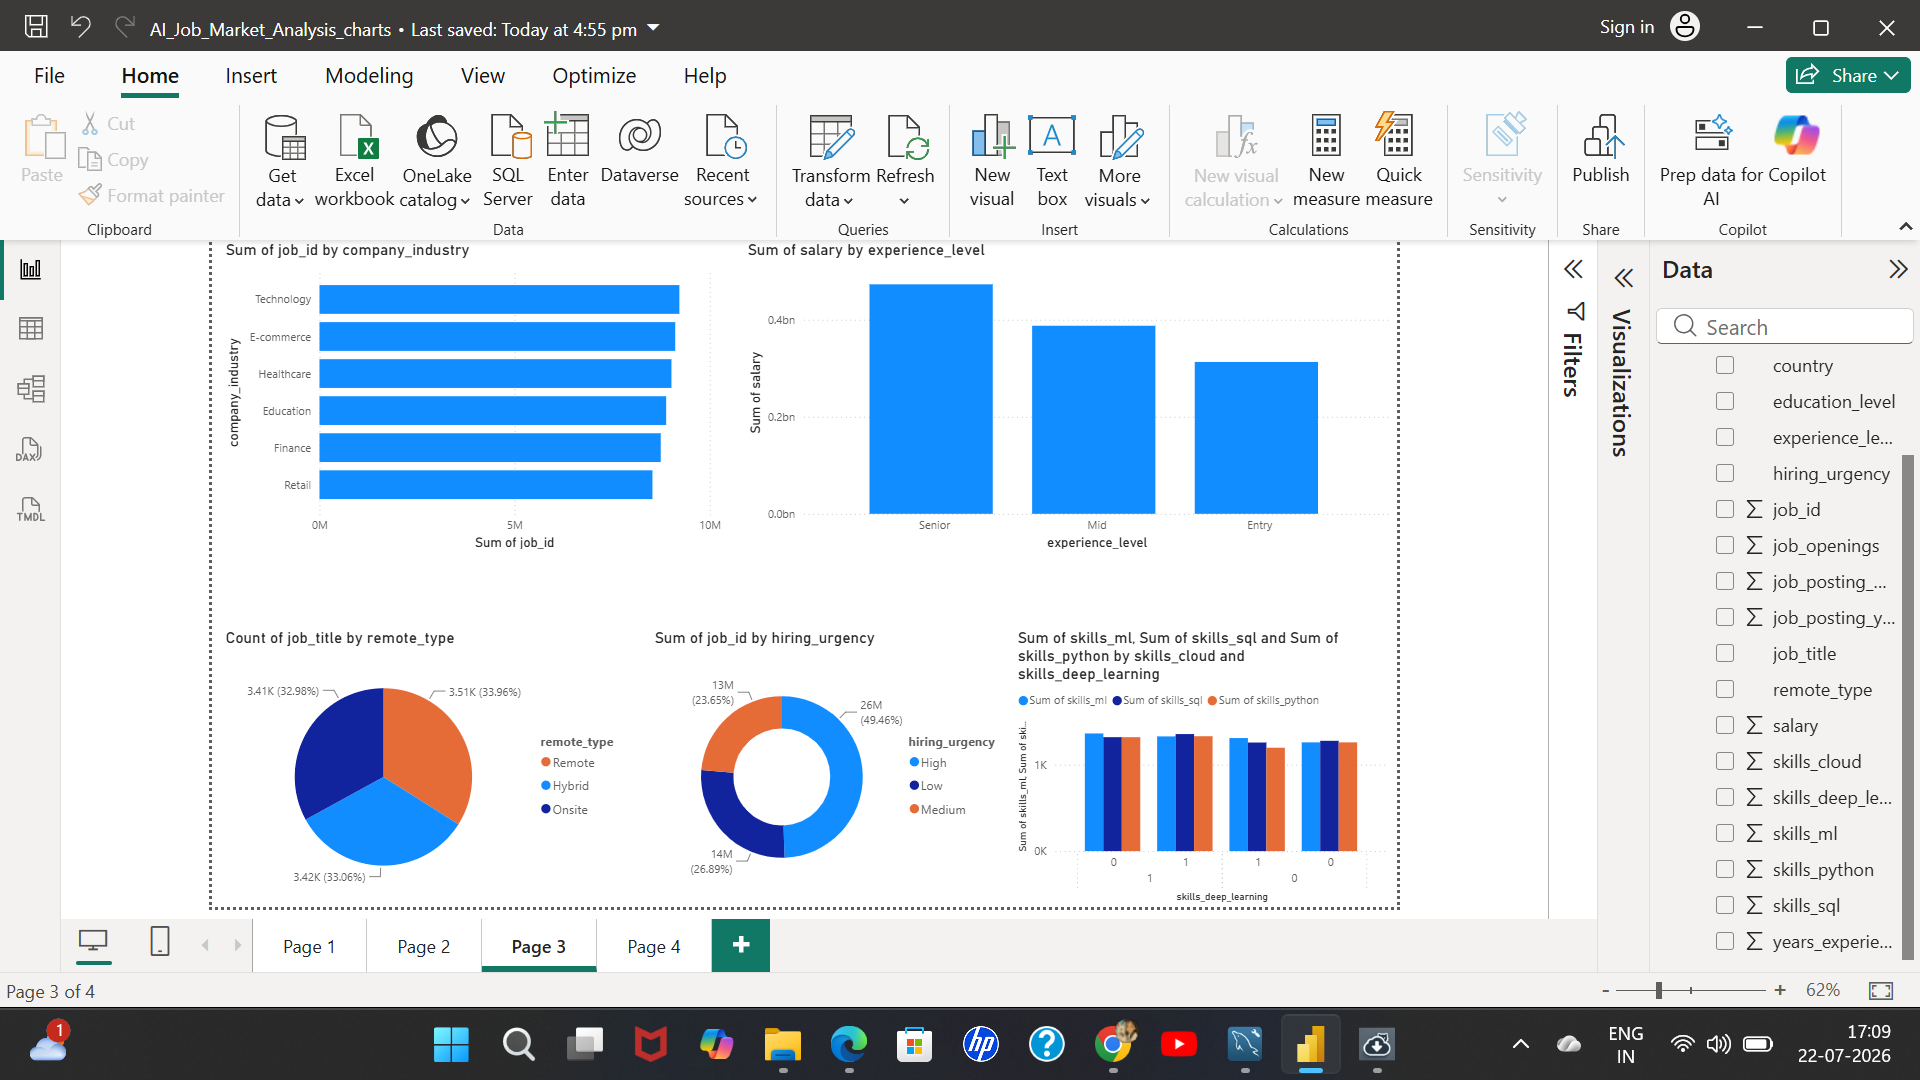

The page's visual inventory and layout, read from the dashboard file:
{"tool":"powerbi","page":{"name":"Page 3","canvas":[1280,720],"ordinal":2},"visuals":[{"type":"barChart","fields":{"Category":["AI Job Market Dataset.company_industry"],"Y":["Sum(AI Job Market Dataset.job_id)"]},"box":[9.4,0,544.3,338.3],"z":0},{"type":"pieChart","fields":{"Category":["AI Job Market Dataset.remote_type"],"Y":["CountNonNull(AI Job Market Dataset.job_title)"]},"box":[9.4,419.5,446,300.5],"z":1},{"type":"donutChart","fields":{"Category":["AI Job Market Dataset.hiring_urgency"],"Y":["Sum(AI Job Market Dataset.job_id)"]},"box":[472.4,419.5,393.1,300.5],"z":2},{"type":"columnChart","fields":{"Category":["AI Job Market Dataset.experience_level"],"Y":["Sum(AI Job Market Dataset.salary)"]},"box":[572.6,0,703,338.3],"z":3},{"type":"clusteredColumnChart","fields":{"Category":["AI Job Market Dataset.skills_cloud","AI Job Market Dataset.skills_deep_learning"],"Y":["Sum(AI Job Market Dataset.skills_ml)","Sum(AI Job Market Dataset.skills_sql)","Sum(AI Job Market Dataset.skills_python)"]},"box":[865,420,410,300],"z":4}]}

Visuals, with their boxes on the page's 1280x720 design canvas (x1, y1, x2, y2). These are canvas units, not pixel positions in the 1920x1080 screenshot, which may show the page scaled, cropped or inside an application window:
barChart - AI Job Market Dataset.company_industry x Sum(AI Job Market Dataset.job_id): 9:0:554:338
pieChart - AI Job Market Dataset.remote_type x CountNonNull(AI Job Market Dataset.job_title): 9:420:455:720
donutChart - AI Job Market Dataset.hiring_urgency x Sum(AI Job Market Dataset.job_id): 472:420:866:720
columnChart - AI Job Market Dataset.experience_level x Sum(AI Job Market Dataset.salary): 573:0:1276:338
clusteredColumnChart - AI Job Market Dataset.skills_cloud x AI Job Market Dataset.skills_deep_learning: 865:420:1275:720
